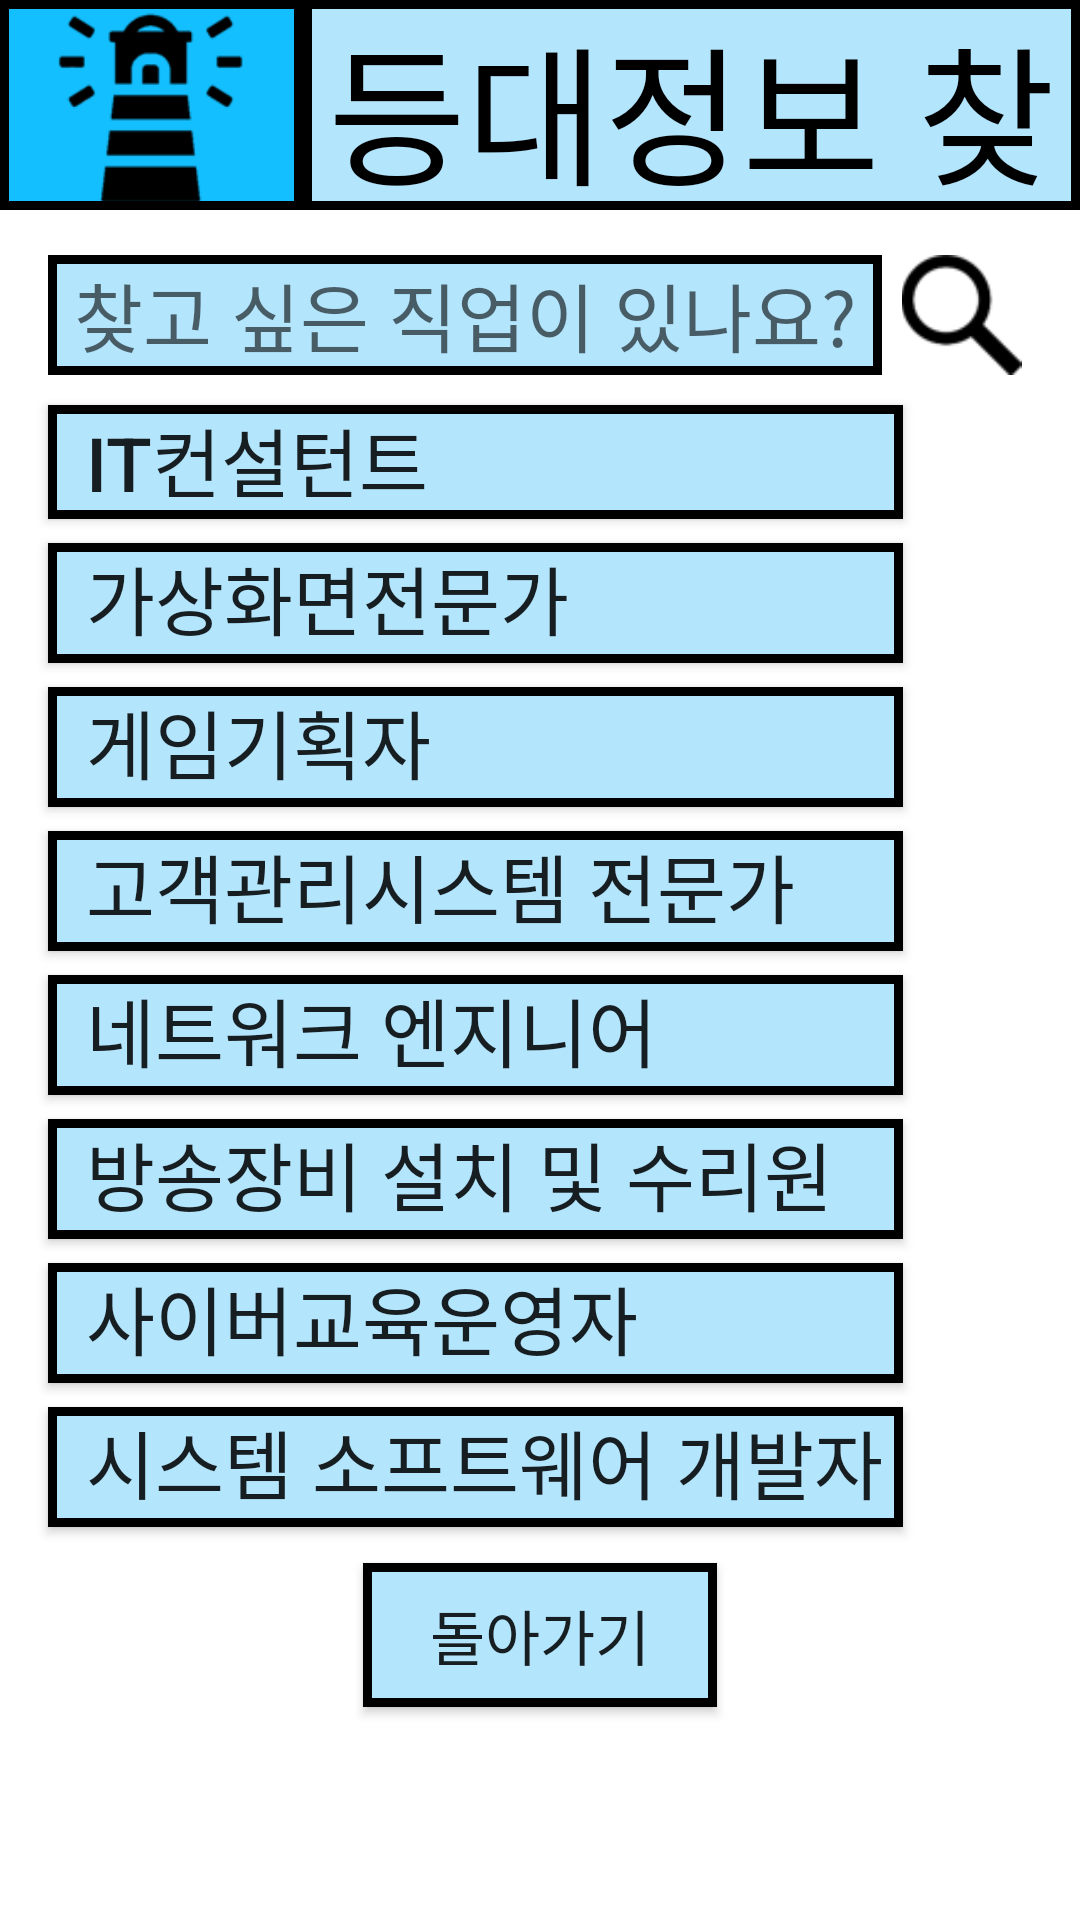

Named icons in this screenshot (1080w x 1920h) and their centers, [x,y]:
search: [962,315]
